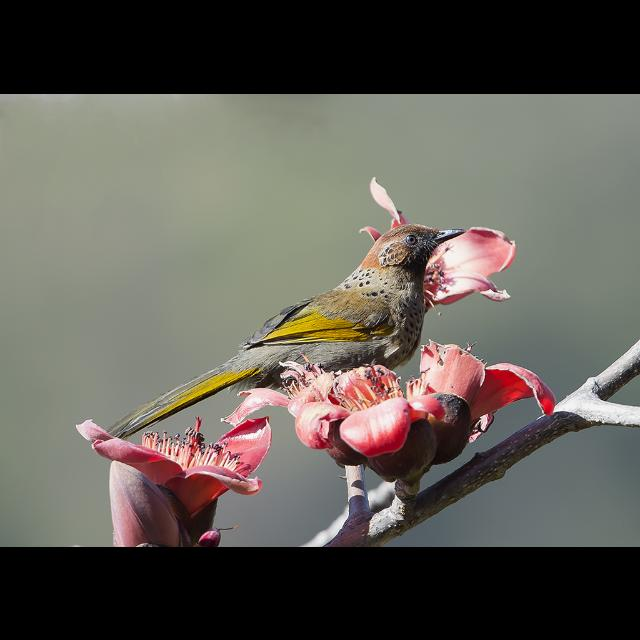Flower: (222, 349, 558, 499), (348, 170, 520, 312), (109, 452, 225, 546)
